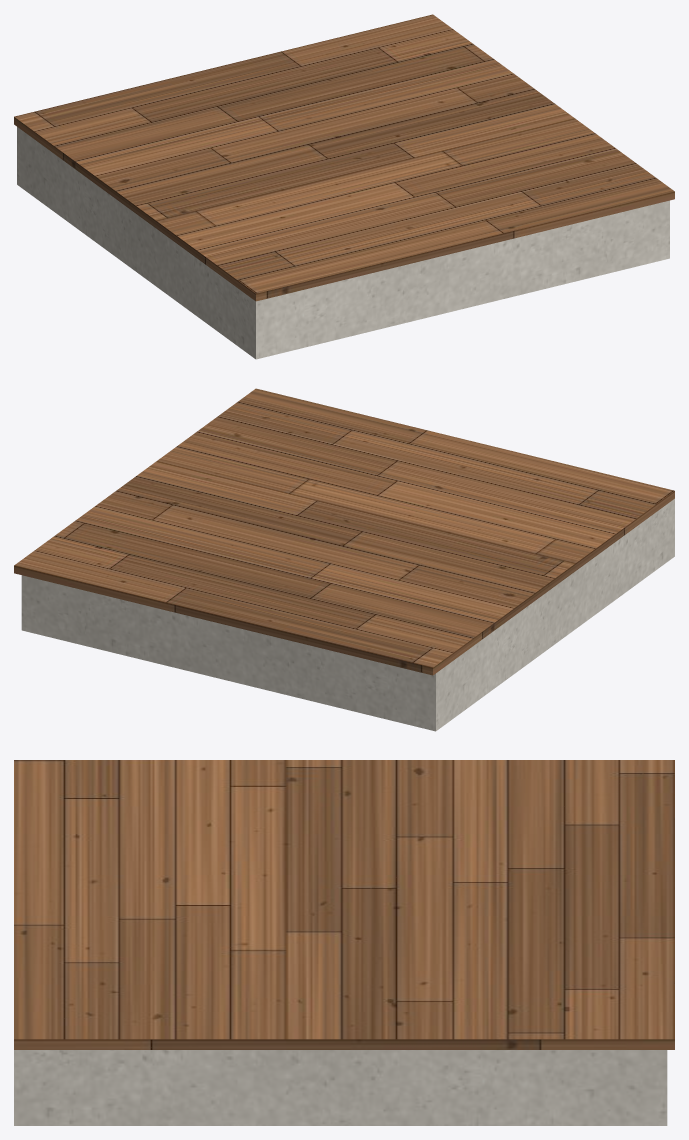
File: floor_floor_u_e1001.glb
3 renders of one model, top to bottom at view 1: azimuth 30°, elevation 25°; view 2: azimuth 150°, elevation 25°; view 3: azimuth 270°, elevation 25°, orthographic. The views are drawn at different scales.
Parts seen in each view (by area): view 1: floor_floor_u_e1001_floor, floor_floor_u_e1001_plaster; view 2: floor_floor_u_e1001_floor, floor_floor_u_e1001_plaster; view 3: floor_floor_u_e1001_floor, floor_floor_u_e1001_plaster.
Boxes of the visible parts, x1,y1,x2,y2 form: floor_floor_u_e1001_floor: (14,14,674,301); floor_floor_u_e1001_plaster: (17,127,669,359); floor_floor_u_e1001_floor: (14,388,674,675); floor_floor_u_e1001_plaster: (21,498,674,731); floor_floor_u_e1001_floor: (14,760,674,1049); floor_floor_u_e1001_plaster: (14,1050,667,1125).
Bounding box in the file's own units: 1.7 × 0.255 × 1.7.
2 materials, 2 textured.
